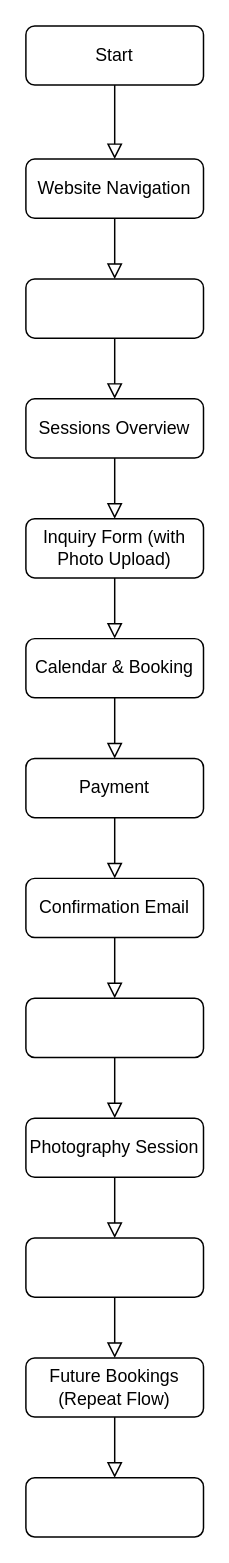
Image size: 229x1563. Some labels were removed from this diagram. The centre of each missing label's shape, as x and y in pixels:
"Delivery & Feedback" goes at point (114, 1267).
"End" goes at point (114, 1506).
"Portfolio & Pricing" goes at point (114, 308).
"Pre-Session Communication" goes at point (114, 1027).
